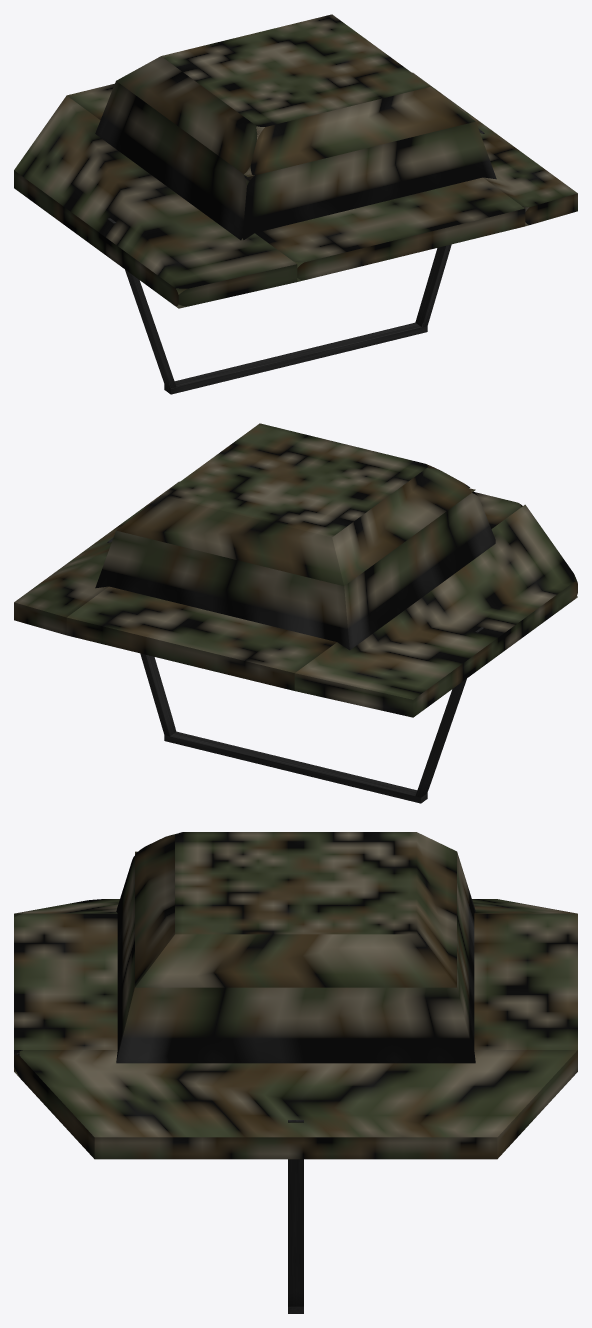
Rendered from marineforesthat.obj.
3 renders of one model, top to bottom at view 1: azimuth 30°, elevation 25°; view 2: azimuth 150°, elevation 25°; view 3: azimuth 270°, elevation 25°, orthographic. The views are drawn at different scales.
Visible parts, largest first — view 1: headModel3, headModel4, headModel2, headModel0, headModel1, headModel7, headModel5, headModel6; view 2: headModel3, headModel4, headModel2, headModel0, headModel1, headModel7, headModel5, headModel6; view 3: headModel1, headModel3, headModel2, headModel0, headModel6, headModel4.
Part boxes in pixels (x1,y1,x2,y2): headModel3: [116, 14, 475, 176]; headModel4: [14, 95, 297, 308]; headModel2: [95, 81, 496, 240]; headModel0: [67, 83, 525, 281]; headModel1: [412, 72, 577, 226]; headModel7: [164, 322, 427, 394]; headModel5: [107, 218, 176, 388]; headModel6: [415, 128, 484, 327]; headModel3: [116, 423, 475, 585]; headModel4: [294, 504, 577, 717]; headModel2: [95, 489, 495, 650]; headModel0: [66, 492, 522, 690]; headModel1: [14, 481, 179, 635]; headModel7: [164, 731, 427, 803]; headModel5: [415, 627, 484, 797]; headModel6: [107, 537, 176, 736]; headModel1: [14, 1050, 577, 1159]; headModel3: [135, 832, 456, 987]; headModel2: [116, 852, 475, 1063]; headModel0: [14, 913, 577, 1071]; headModel6: [288, 1120, 303, 1306]; headModel4: [14, 899, 576, 917].
Bounding box in the file's own units: 14 × 9.7 × 14.
